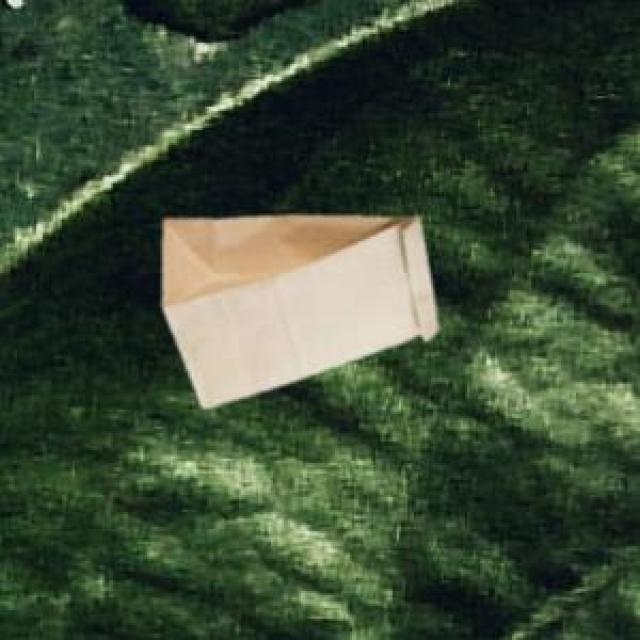paper: (158, 211, 433, 403)
